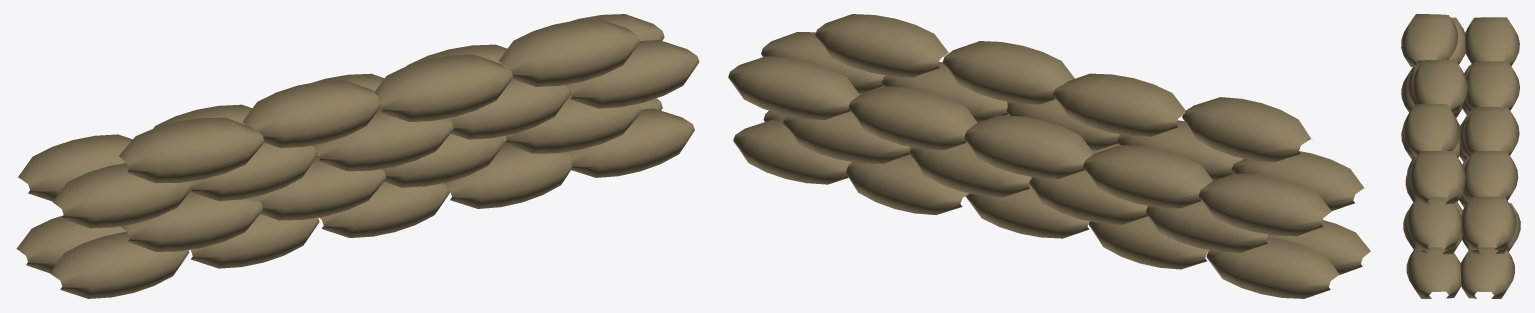
Rendered from SM_sandbags.glb.
3 views of the same model, side by side, from view 1: azimuth 30°, elevation 25°; view 2: azimuth 150°, elevation 25°; view 3: azimuth 270°, elevation 25° (orthographic). The views are drawn at different scales.
Parts seen in each view (by area): view 1: SM_sandbags; view 2: SM_sandbags; view 3: SM_sandbags.
Part boxes in pixels (<box>): SM_sandbags: <box>16,14,699,298</box>; SM_sandbags: <box>728,14,1370,298</box>; SM_sandbags: <box>1401,14,1520,298</box>.
Bounding box in the file's own units: 3.04 × 0.635 × 0.6737.
